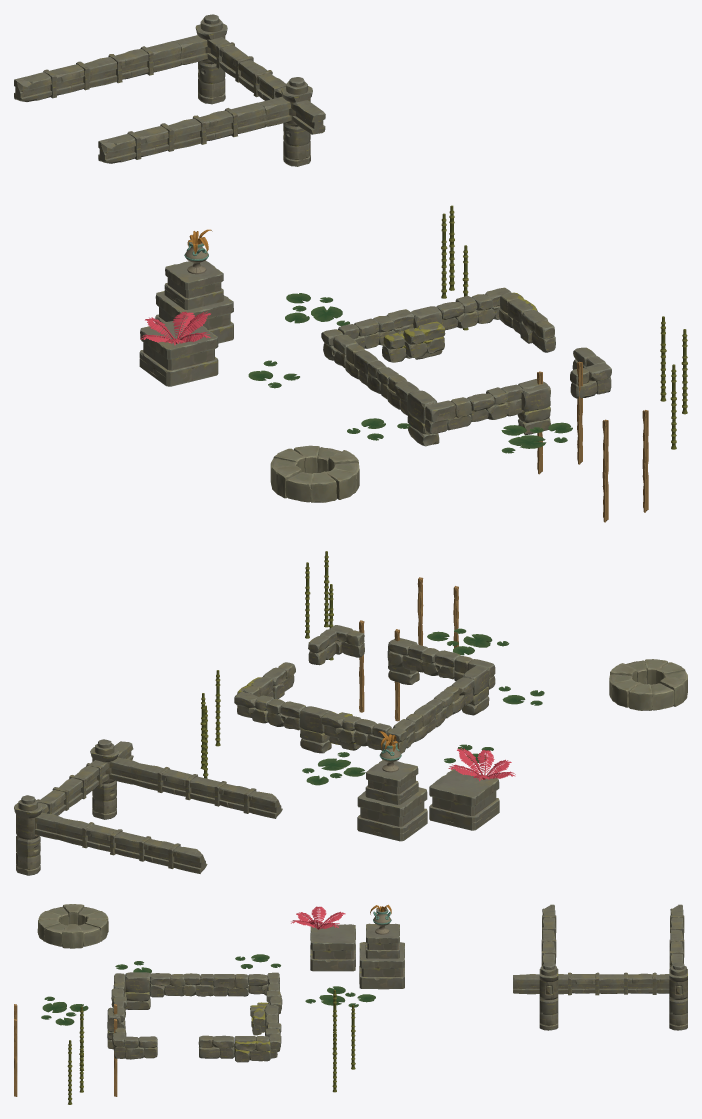
The model's file is Fortress_Part_4.fbx.
3 renders of one model, top to bottom at view 1: azimuth 30°, elevation 25°; view 2: azimuth 150°, elevation 25°; view 3: azimuth 270°, elevation 25°, orthographic. The views are drawn at different scales.
Visible parts, largest first — view 1: ForestPedestal__27__2, ForestPedestal__26__2, Pillar__17__1, Pillar__16__2, ForestPedestal__28__2, lowWall3__1__45, wallEntrance_41, lowWall1__4__13, wallEntrance__1__11, lowWall4__3__18, lowWall4__2__21, lowWall1__8__3 (+17 smaller); view 2: ForestPedestal__27__2, ForestPedestal__28__2, Pillar__16__2, ForestPedestal__26__2, Pillar__17__1, wallEntrance__2__6, lowWall2__3__40, wallEntrance__1__11, lowWall1__8__3, lowWall1__6__7, lowWall1__3__22, lowWall1__7__7 (+24 smaller); view 3: ForestPedestal__27__2, ForestPedestal__28__2, Pillar__17__1, Pillar__16__2, ForestPedestal__26__2, wallEntrance__1__11, lowWall4__2__21, lowWall3_58, lowWall4__1__40, lowWall2__3__39, lowWall4__5__14, lowWall2__1__38 (+12 smaller).
Part boxes in pixels (x1,y1,x2,y2): ForestPedestal__27__2: [139, 317, 218, 386]; ForestPedestal__26__2: [164, 260, 223, 309]; Pillar__17__1: [281, 77, 312, 166]; Pillar__16__2: [195, 14, 227, 104]; ForestPedestal__28__2: [155, 291, 233, 343]; lowWall3__1__45: [425, 397, 471, 434]; wallEntrance_41: [517, 381, 550, 434]; lowWall1__4__13: [403, 321, 445, 357]; wallEntrance__1__11: [407, 390, 439, 446]; lowWall4__3__18: [570, 363, 611, 398]; lowWall4__2__21: [520, 310, 555, 352]; lowWall1__8__3: [467, 387, 508, 421]; ForestPedestal__27__2: [429, 768, 499, 830]; ForestPedestal__28__2: [357, 787, 427, 841]; Pillar__16__2: [14, 795, 42, 875]; ForestPedestal__26__2: [365, 760, 418, 804]; Pillar__17__1: [90, 739, 118, 819]; wallEntrance__2__6: [299, 706, 331, 753]; lowWall2__3__40: [388, 640, 427, 672]; wallEntrance__1__11: [462, 665, 489, 715]; lowWall1__8__3: [420, 648, 460, 679]; lowWall1__6__7: [266, 699, 305, 730]; lowWall1__3__22: [321, 712, 360, 743]; lowWall1__7__7: [234, 692, 273, 723]; ForestPedestal__27__2: [310, 924, 355, 971]; ForestPedestal__28__2: [359, 942, 404, 989]; Pillar__17__1: [539, 962, 558, 1030]; Pillar__16__2: [669, 962, 687, 1030]; ForestPedestal__26__2: [365, 923, 399, 958]; wallEntrance__1__11: [125, 972, 150, 1009]; lowWall4__2__21: [198, 1035, 234, 1058]; lowWall3_58: [213, 974, 248, 996]; lowWall4__1__40: [149, 973, 185, 997]; lowWall2__3__39: [124, 1036, 157, 1059]; lowWall4__5__14: [235, 1040, 270, 1062]; lowWall2__1__38: [182, 973, 213, 996].
Size of the model in its own units: 2605 by 1045 by 4803.
